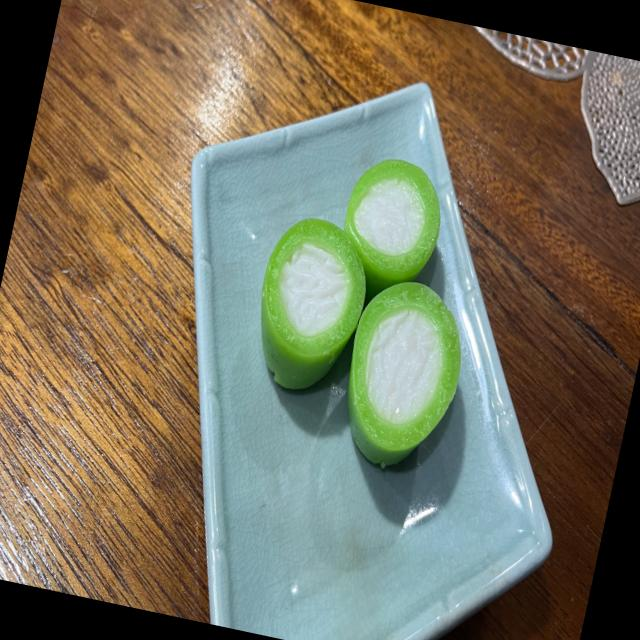nona-manis: (347, 281, 460, 468), (260, 218, 365, 390), (344, 159, 440, 305)
